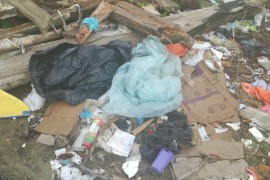trash: (1, 11, 268, 177)
